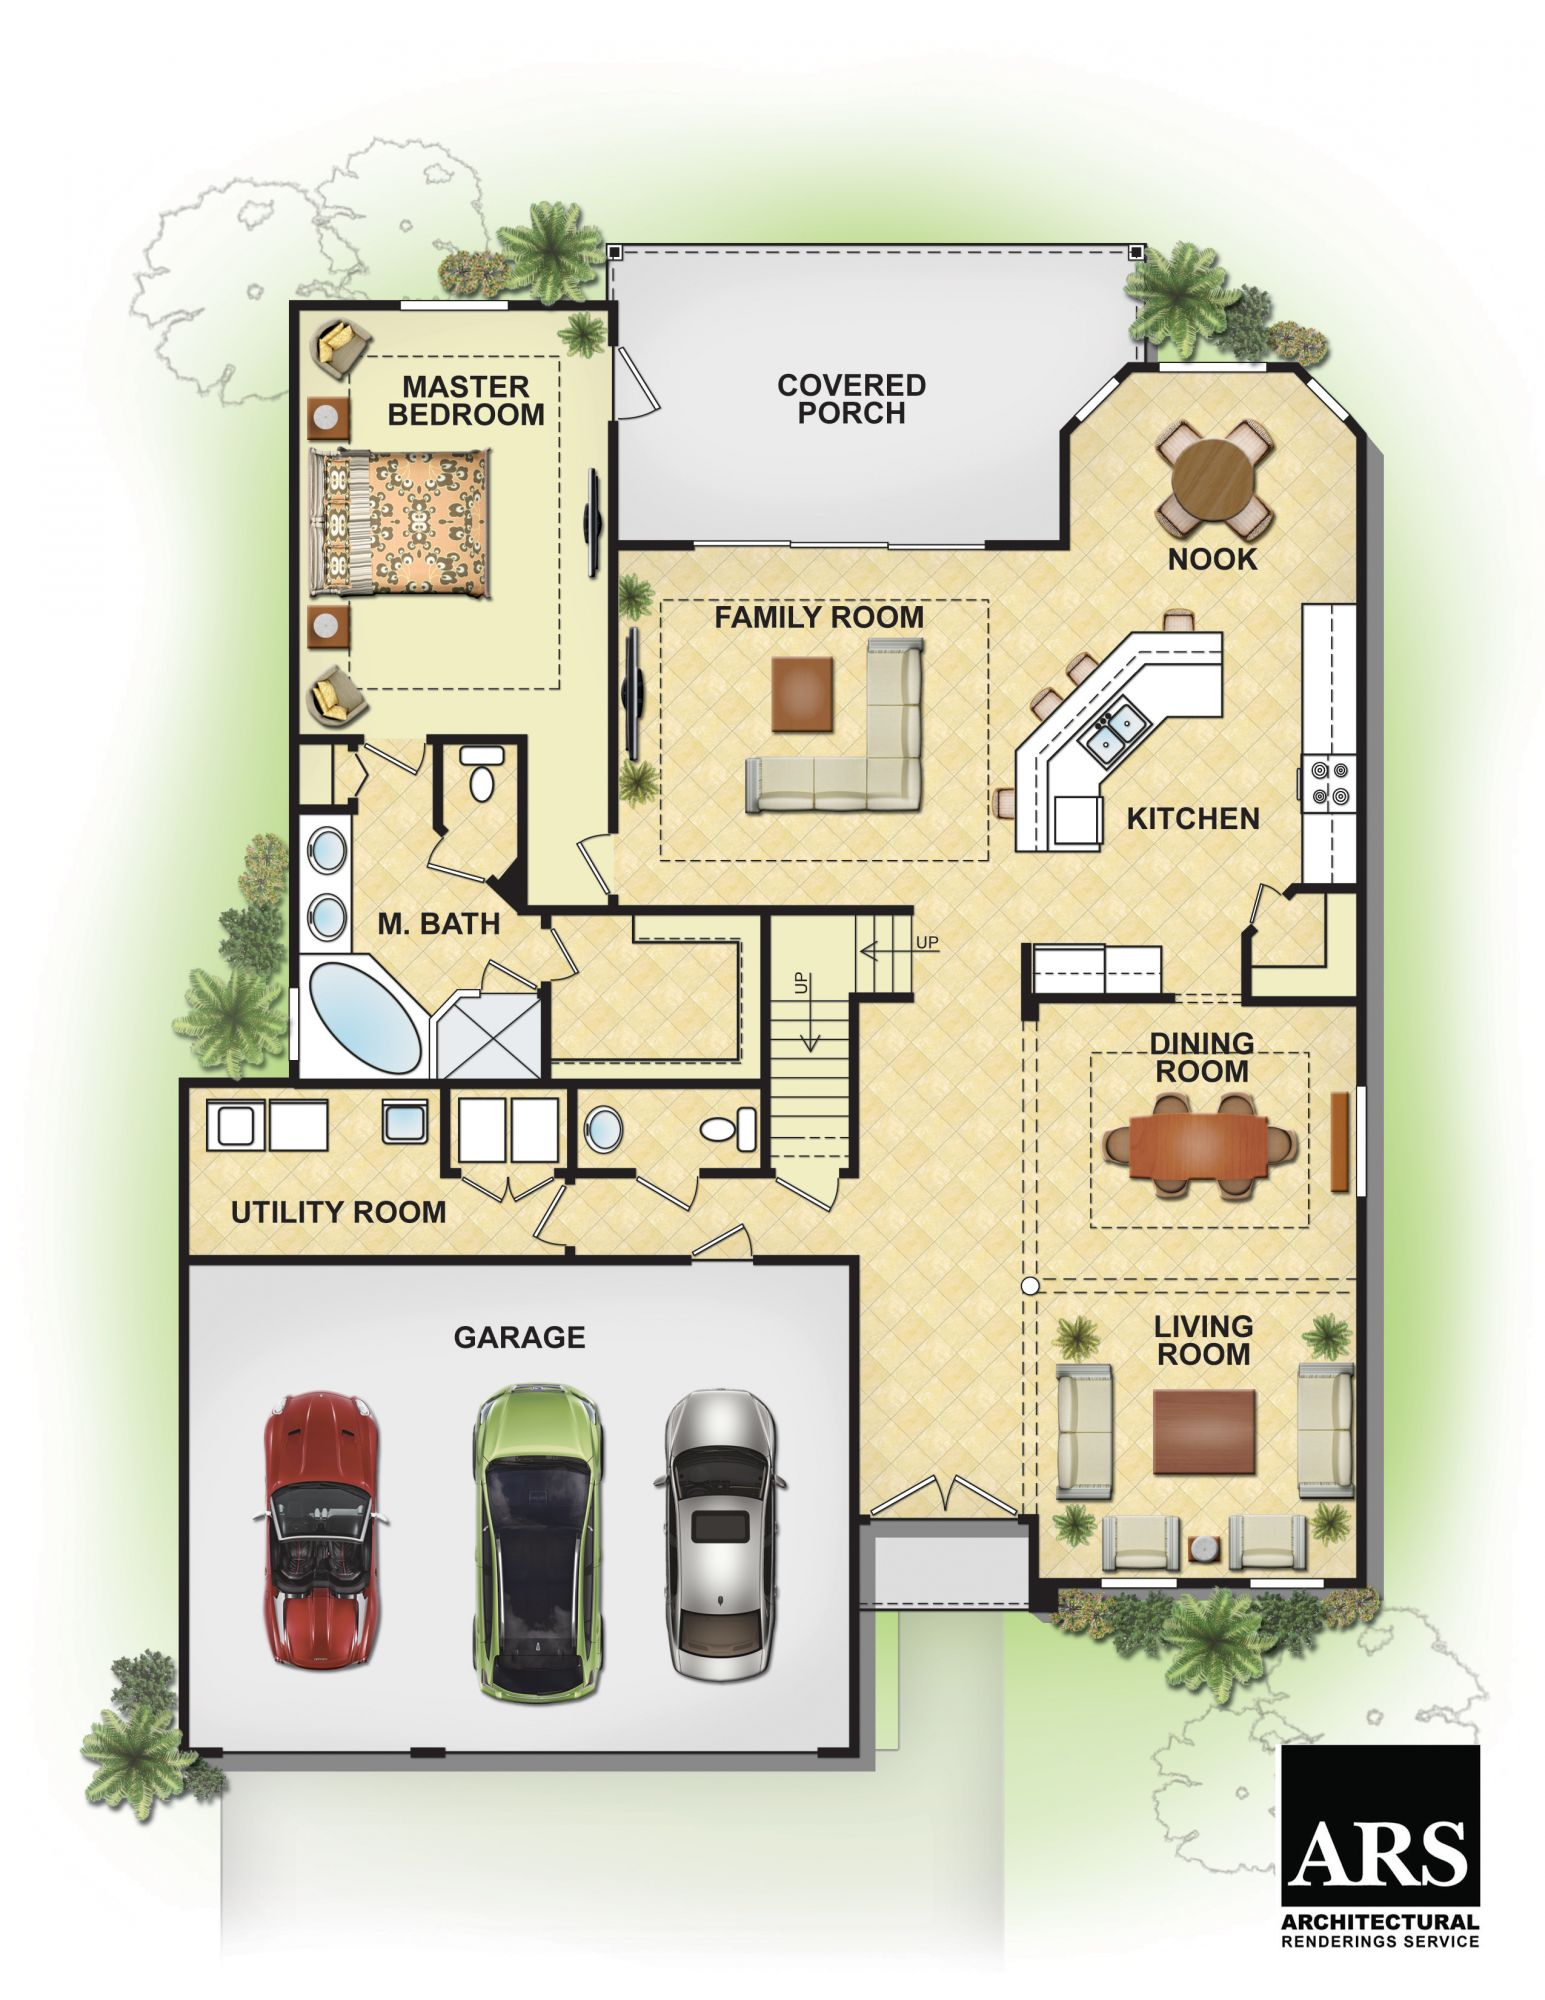room: (1026, 991, 1371, 1590), (290, 300, 618, 743), (290, 805, 555, 1088)
